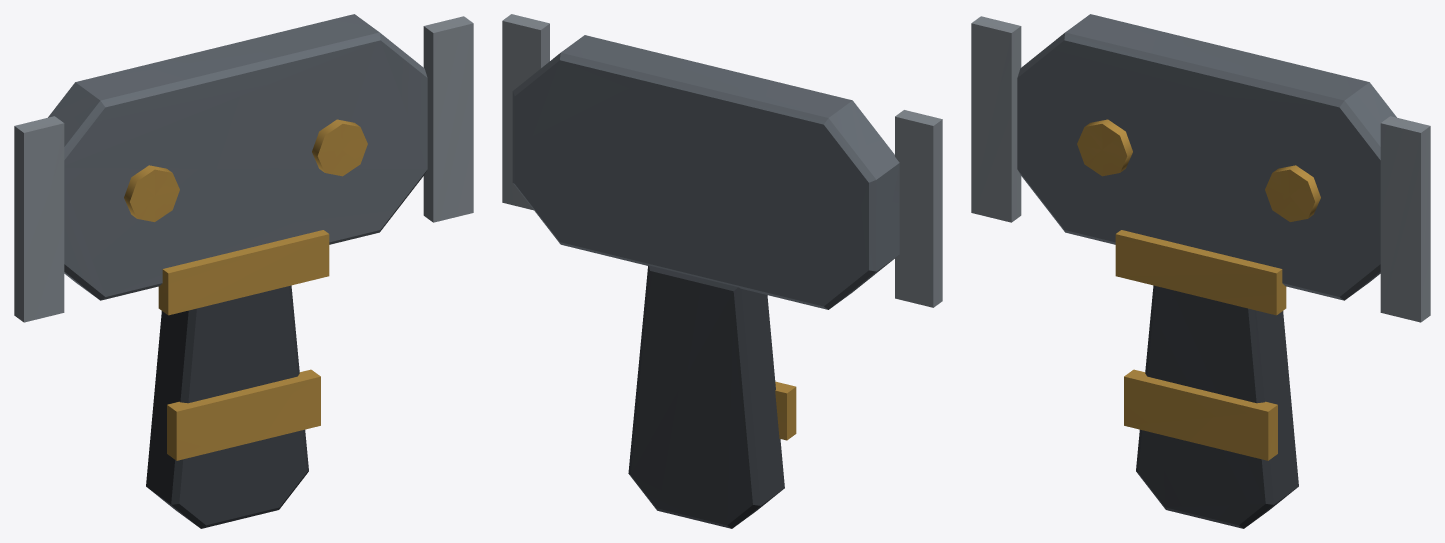
File: defense-button-build.glb
3 views of the same model, side by side, from view 1: azimuth 30°, elevation 25°; view 2: azimuth 150°, elevation 25°; view 3: azimuth 330°, elevation 25° (orthographic). The views are drawn at different scales.
Visible parts, largest first — view 1: button-icon; view 2: button-icon; view 3: button-icon.
Boxes of the visible parts, x1=… form: button-icon: x1=14, y1=14, x2=473, y2=528; button-icon: x1=502, y1=14, x2=942, y2=528; button-icon: x1=971, y1=14, x2=1430, y2=528.
Size of the model in its own units: 0.134 by 0.129 by 0.019.
